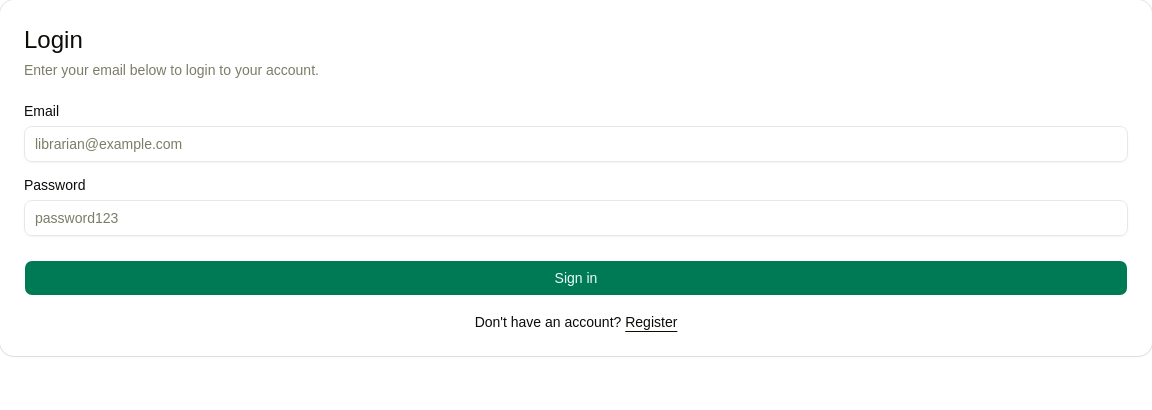
Scenario: LoginPage Component › displays custom error message from backend when login fails with invalid credentials
This screenshot has width=1152, height=410.
Type "wrong@example.com" into the field labelled "Email" at (576, 144), box [24, 126, 1128, 162]
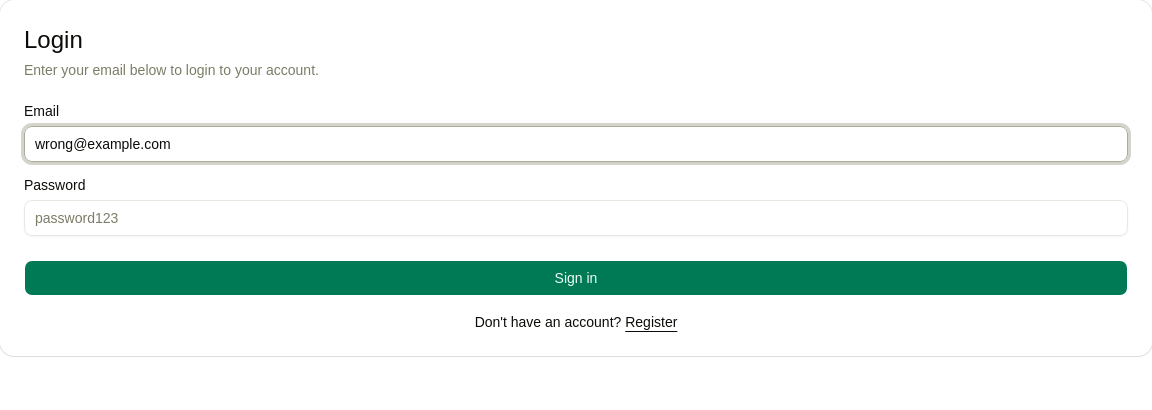
Type "wrongpassword" into the password field labelled "Password" at (576, 218), box [24, 200, 1128, 236]
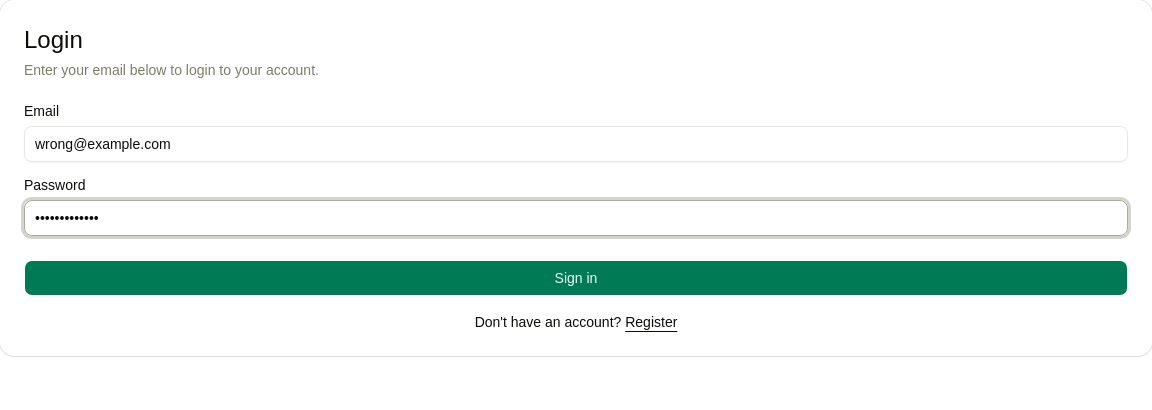
Click the button "Sign in" at (576, 278), box [24, 260, 1128, 296]
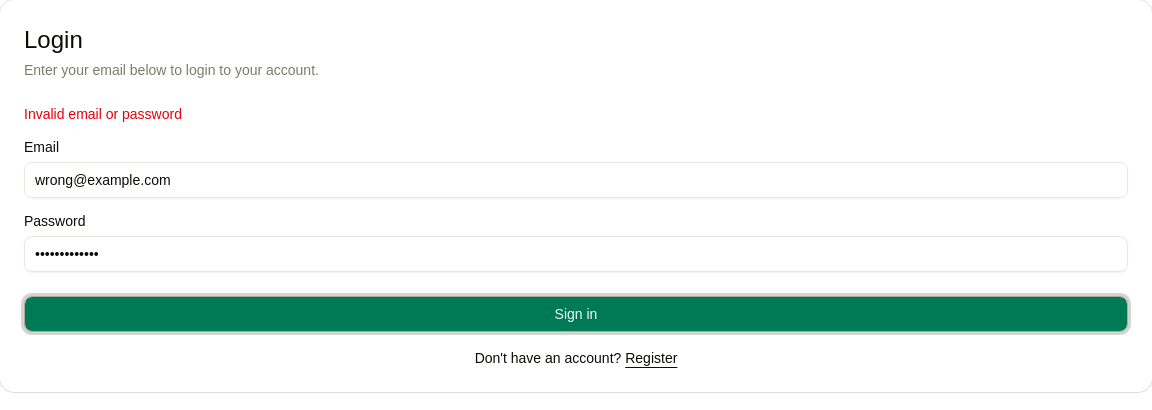
Result: the text "Invalid email or password" is shown at [24, 106, 182, 122]
